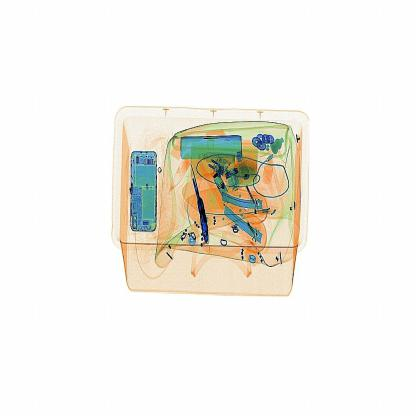wrench: (188, 154, 214, 254)
